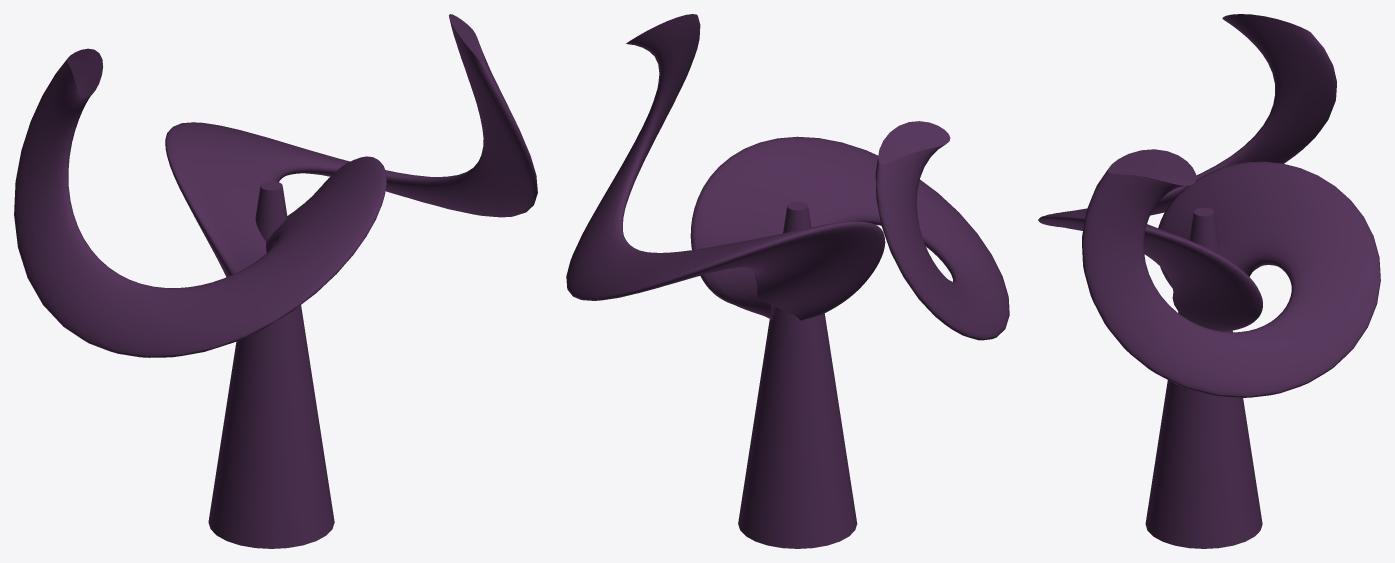
Rendered from FearLv2.glb.
3 views of the same model, side by side, from view 1: azimuth 30°, elevation 25°; view 2: azimuth 150°, elevation 25°; view 3: azimuth 270°, elevation 25° (orthographic). The views are drawn at different scales.
Visible parts, largest first — view 1: Batang025, Batang024, Batang022; view 2: Batang025, Batang024, Batang022; view 3: Batang024, Batang025, Batang022.
Boxes of the visible parts, <box> form: Batang025: <box>14,48,386,357</box>; Batang024: <box>165,14,537,277</box>; Batang022: <box>208,181,334,548</box>; Batang025: <box>690,121,1009,340</box>; Batang024: <box>566,14,885,320</box>; Batang022: <box>738,201,857,548</box>; Batang024: <box>1082,149,1380,397</box>; Batang025: <box>1038,14,1336,331</box>; Batang022: <box>1145,207,1262,548</box>.
Size of the model in its own units: 0.9124 by 0.9476 by 0.6619.
